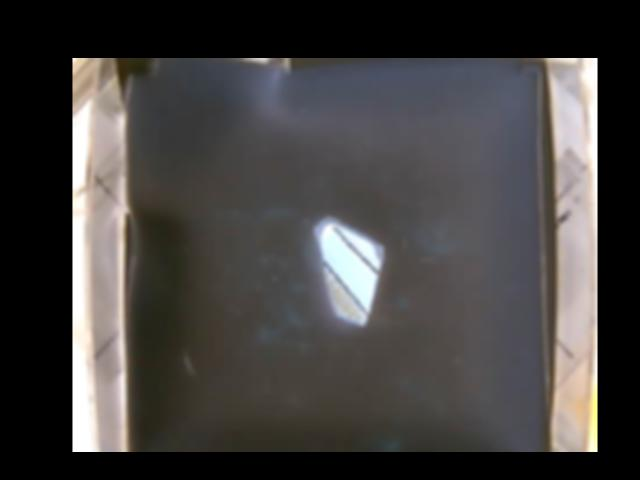China: (316, 217, 382, 325)
